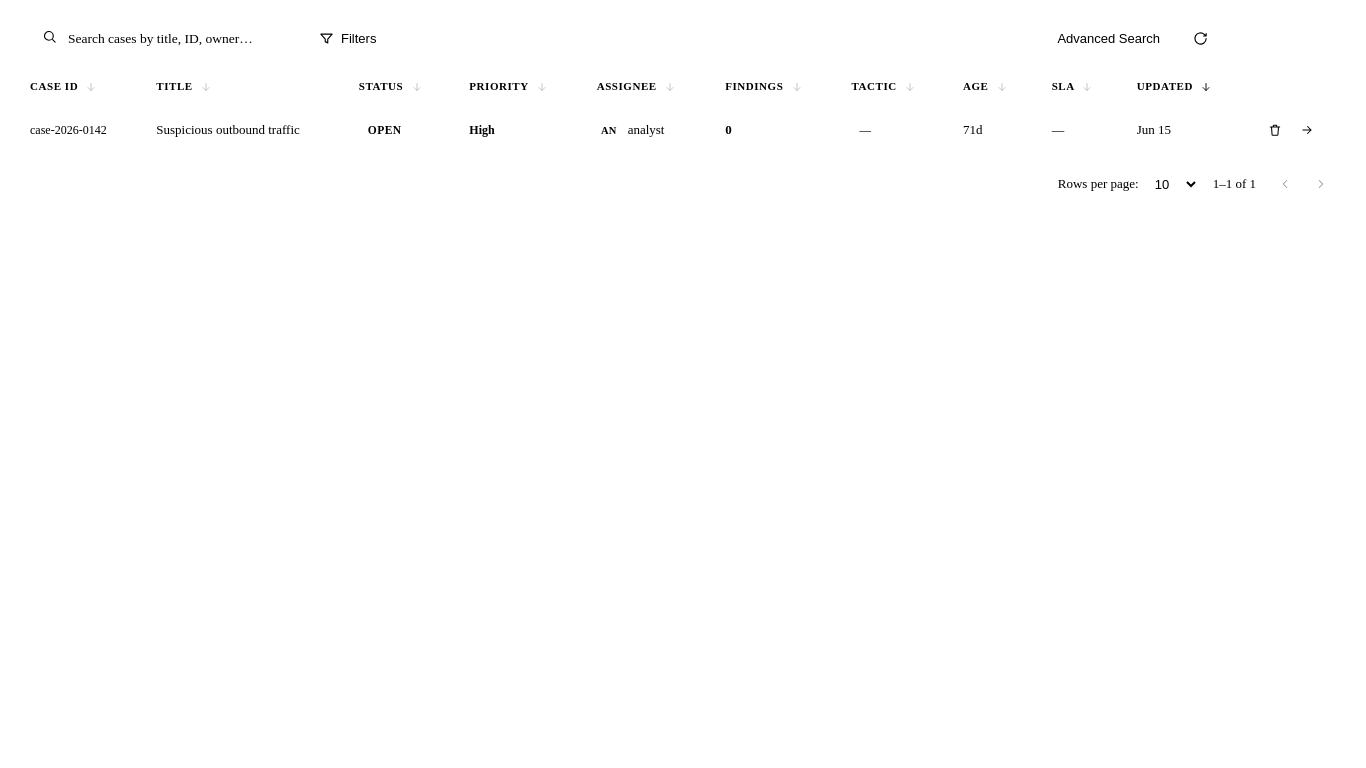
case deletion › keeps the confirmation open and shows backend errors
What coordinates should you click on to do the following:
click the button named "Delete case case-2026-0142"
I would click on:
 (1275, 130)
Its box is [1261,116,1289,144].
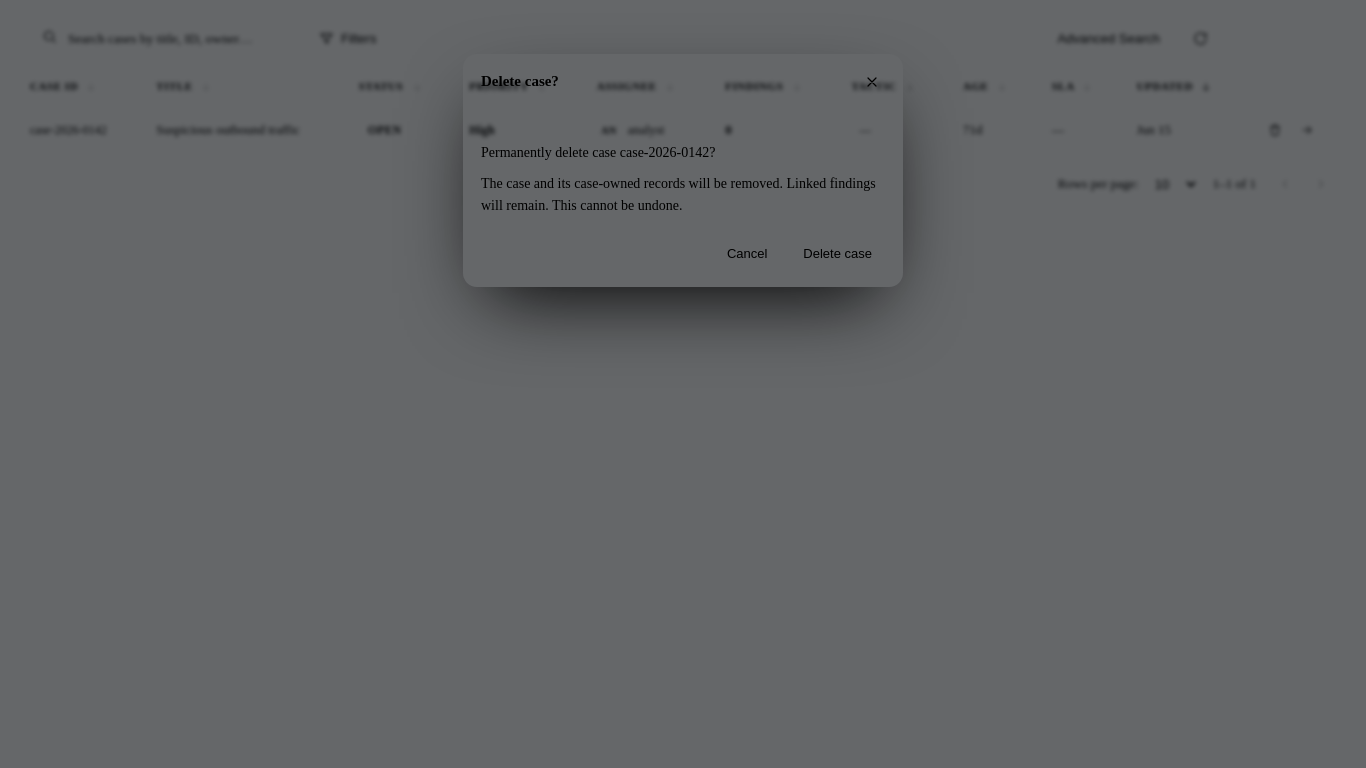
What coordinates should you click on to do the following:
click the button "Delete case"
I would click on:
 (838, 254)
Its box is [790,238,885,269].
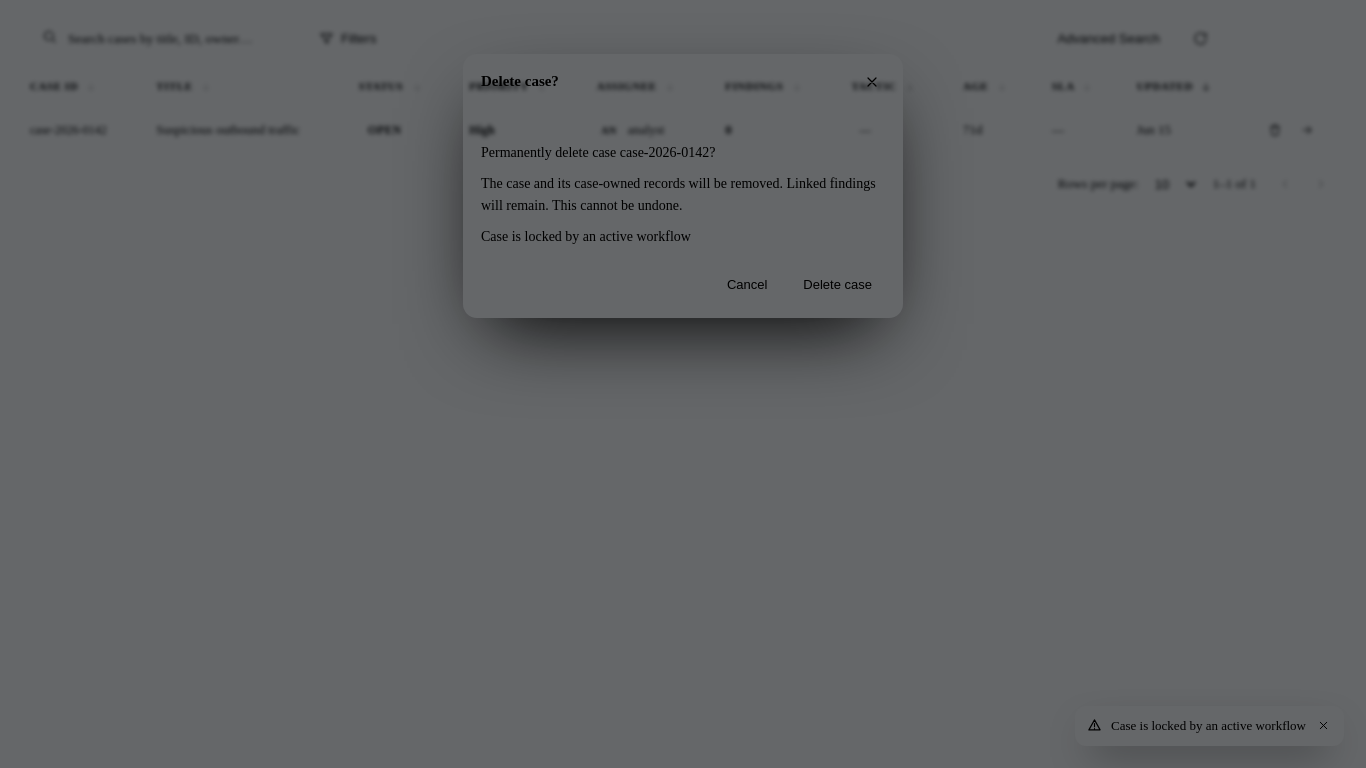
Check: the text "Suspicious outbound traffic" is shown, box [140,104,343,156]
Check: the dialog "Delete case?" is shown, box [463,54,903,318]
Check: the text "Case is locked by an active workflow" below "Permanently delete case" is shown, box [481,229,691,244]
